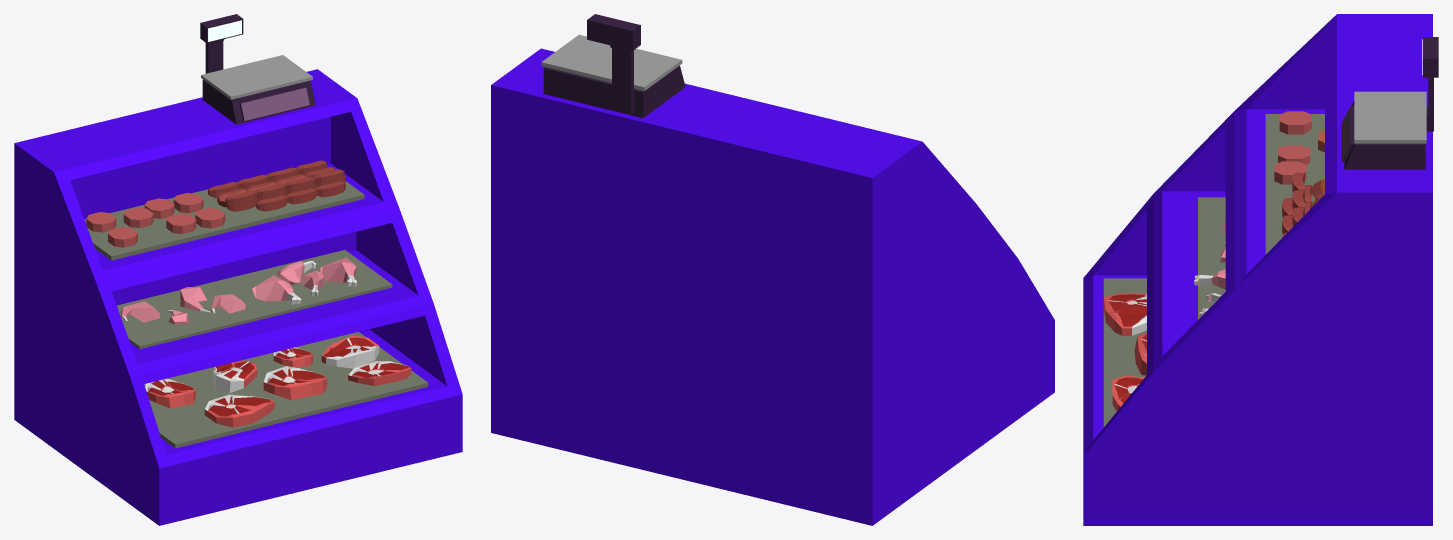
The model's file is MeatMyRequests.glb.
3 renders of one model, left to right at view 1: azimuth 30°, elevation 25°; view 2: azimuth 150°, elevation 25°; view 3: azimuth 270°, elevation 25°, orthographic. The views are drawn at different scales.
Visible parts, largest first — view 1: Cube.084, Cube.085, Cube.086, Cube.088, Cube.087, Cube.079, Cube.089, Cube.106, Cube.093, Cube.090, Cube.091, Cube.092 (+14 smaller); view 2: Cube.084, Cube.088; view 3: Cube.084, Cube.088, Cube.087, Cube.085, Cube.086, Cube.079, Cube.096, Cube.090, Cube.106, Cube.101, Cube.099, Cube.089.
Part boxes in pixels (<box>): Cube.084: <box>14,69,462,525</box>; Cube.085: <box>144,332,428,448</box>; Cube.086: <box>117,250,392,349</box>; Cube.088: <box>200,14,315,124</box>; Cube.087: <box>84,168,364,260</box>; Cube.079: <box>204,394,274,427</box>; Cube.089: <box>263,366,327,400</box>; Cube.106: <box>225,169,344,206</box>; Cube.093: <box>321,335,379,368</box>; Cube.090: <box>348,361,411,386</box>; Cube.091: <box>212,360,257,392</box>; Cube.092: <box>145,378,195,408</box>; Cube.084: <box>491,48,1054,525</box>; Cube.088: <box>541,14,685,117</box>; Cube.084: <box>1083,14,1432,525</box>; Cube.088: <box>1341,37,1438,169</box>; Cube.087: <box>1265,114,1324,254</box>; Cube.085: <box>1103,278,1146,427</box>; Cube.086: <box>1198,197,1225,319</box>; Cube.079: <box>1103,293,1146,335</box>; Cube.096: <box>1279,111,1311,134</box>; Cube.090: <box>1112,375,1144,411</box>; Cube.106: <box>1292,172,1304,226</box>; Cube.101: <box>1274,161,1306,184</box>; Cube.099: <box>1278,145,1310,164</box>; Cube.089: <box>1134,332,1146,375</box>.
Bounding box in the file's own units: 2.85 × 3.13 × 2.4.
